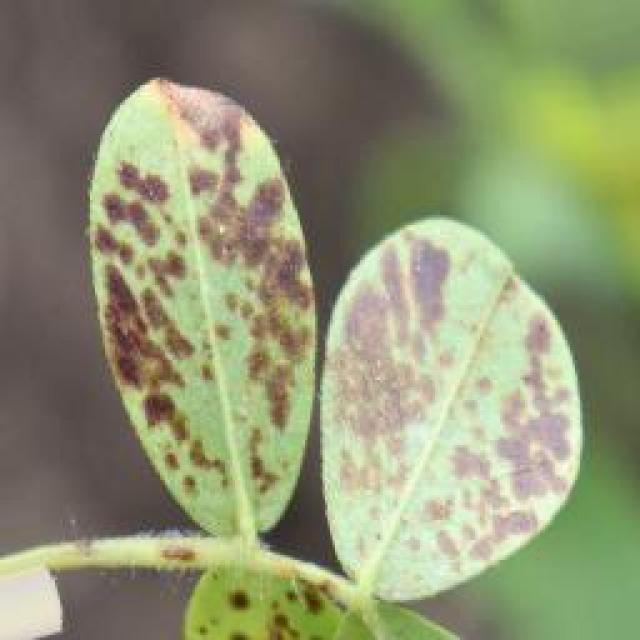Whitefly: (78, 71, 562, 590)
